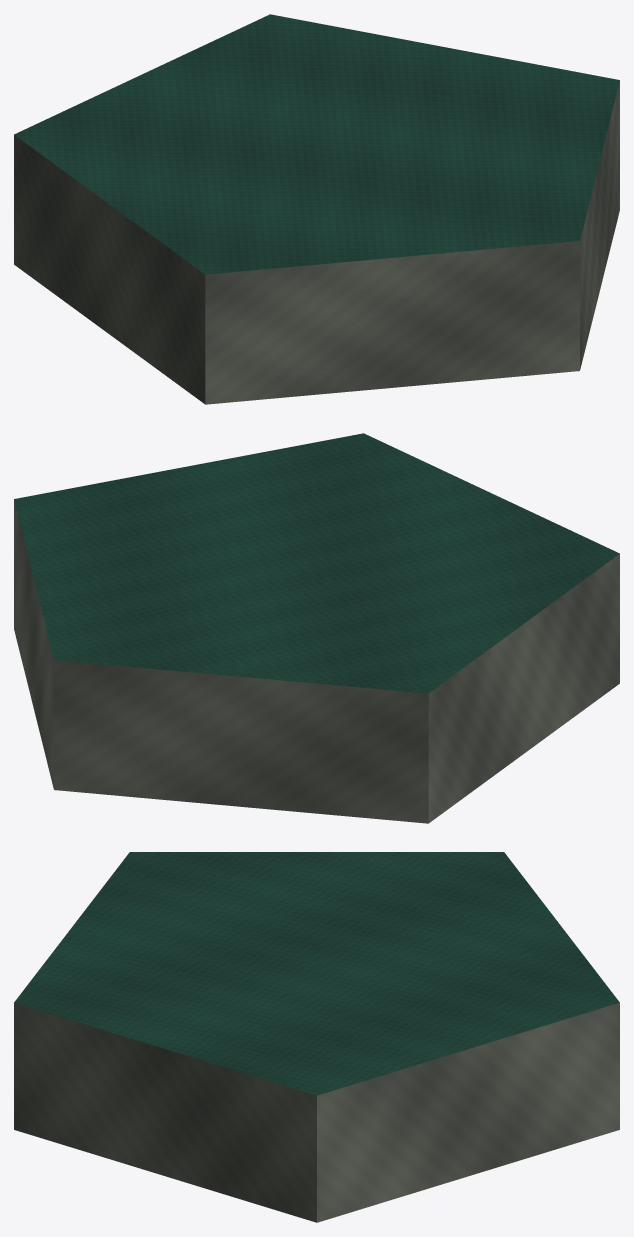
Rendered from prop_plaza_planter_ShadowProxy.glb.
3 views of the same model, one above another, from view 1: azimuth 30°, elevation 25°; view 2: azimuth 150°, elevation 25°; view 3: azimuth 270°, elevation 25° (orthographic). The views are drawn at different scales.
Parts seen in each view (by area): view 1: prop_plaza_planter__surface.003; view 2: prop_plaza_planter__surface.003; view 3: prop_plaza_planter__surface.003.
Part boxes in pixels (x1,y1,x2,y2): prop_plaza_planter__surface.003: [14, 14, 619, 404]; prop_plaza_planter__surface.003: [14, 433, 619, 823]; prop_plaza_planter__surface.003: [14, 852, 619, 1222].
Bounding box in the file's own units: 1.52 × 0.37 × 1.6.
Materials: 2 (2 with a texture image).
